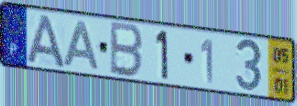1: (153, 29, 170, 82), (199, 38, 214, 85)
3: (234, 36, 264, 96)
A: (25, 13, 68, 70), (61, 19, 101, 72)
B: (108, 20, 145, 81)
